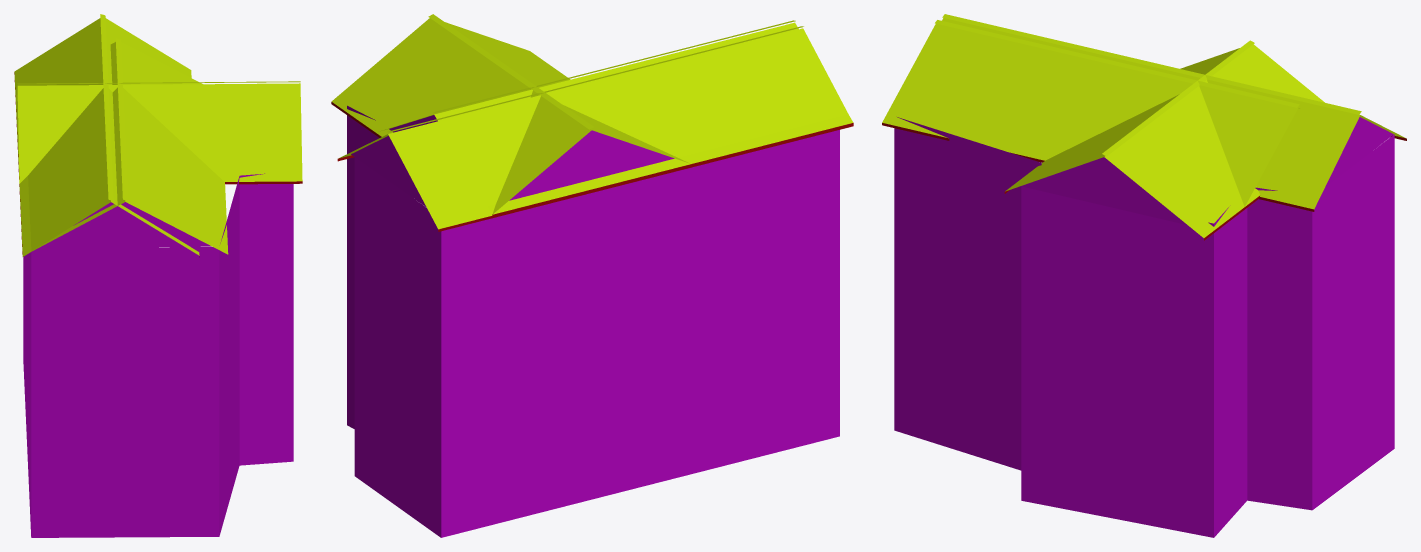
3 renders of one model, left to right at view 1: azimuth 30°, elevation 25°; view 2: azimuth 150°, elevation 25°; view 3: azimuth 270°, elevation 25°, orthographic. The views are drawn at different scales.
Visible parts, largest first — view 1: sc_114; view 2: sc_114; view 3: sc_114.
Part boxes in pixels (bbox=[...]): sc_114: bbox=[14, 14, 302, 537]; sc_114: bbox=[331, 14, 853, 537]; sc_114: bbox=[882, 14, 1406, 537].
Size of the model in its own units: 19.94 by 17.37 by 22.32.
